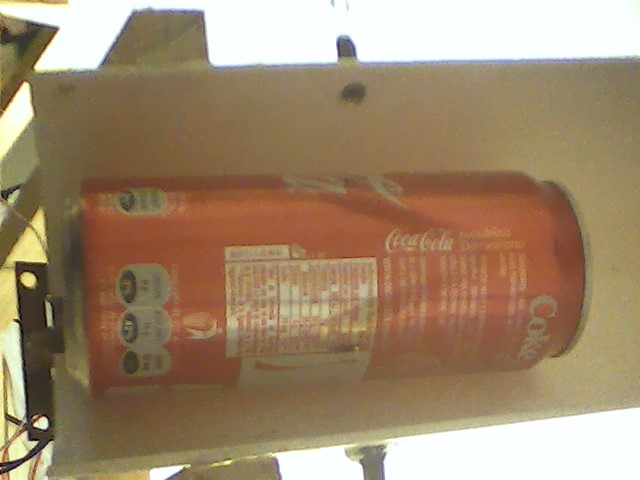lata: (61, 172, 594, 403)
